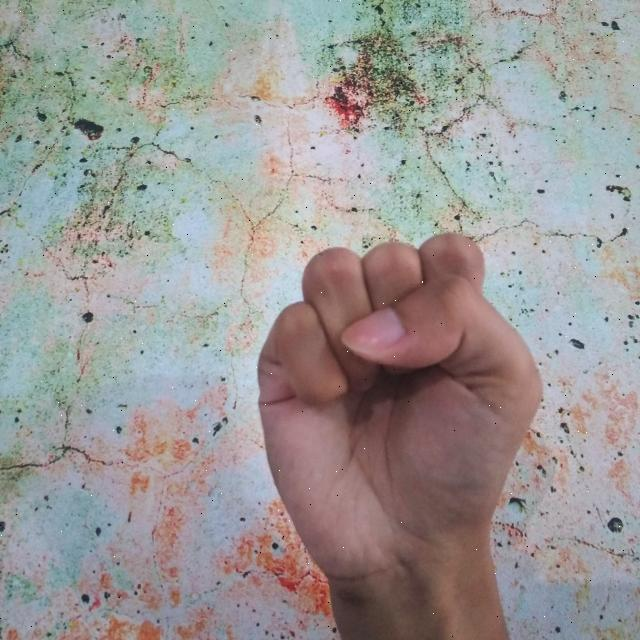S: (250, 227, 546, 640)
